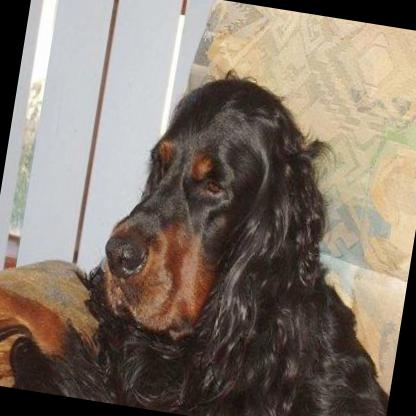Gordon_setter: (0, 34, 416, 416)
